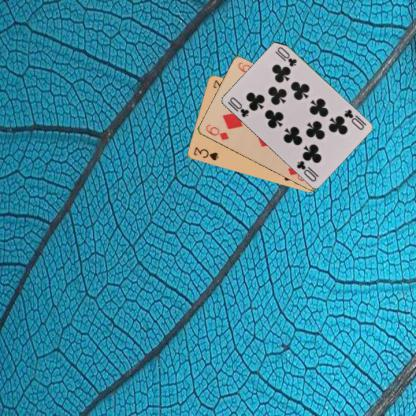10c: (341, 106, 367, 131), (227, 95, 250, 118)
3s: (191, 144, 220, 162)
6d: (203, 122, 230, 141)
